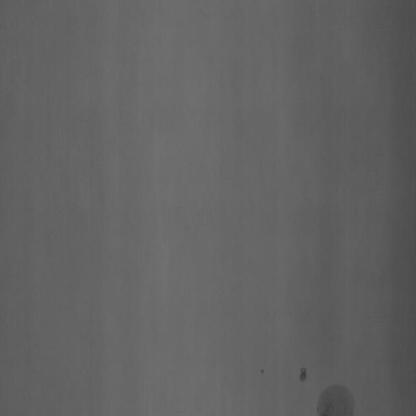oil_spot: (314, 376, 357, 416), (298, 369, 308, 384)
